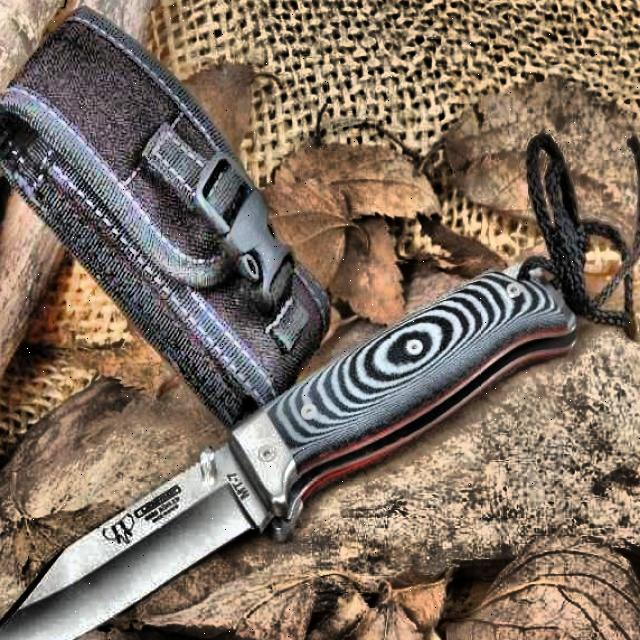knife: (0, 262, 575, 640)
